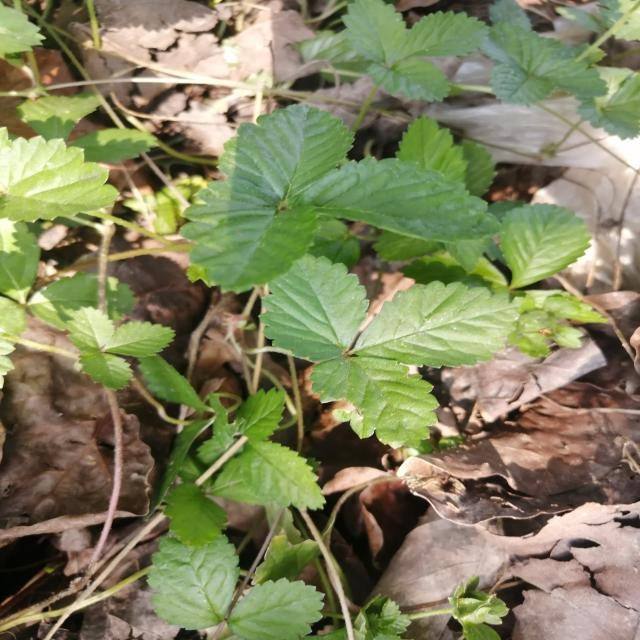Mock_strawberry: (234, 243, 500, 452)
